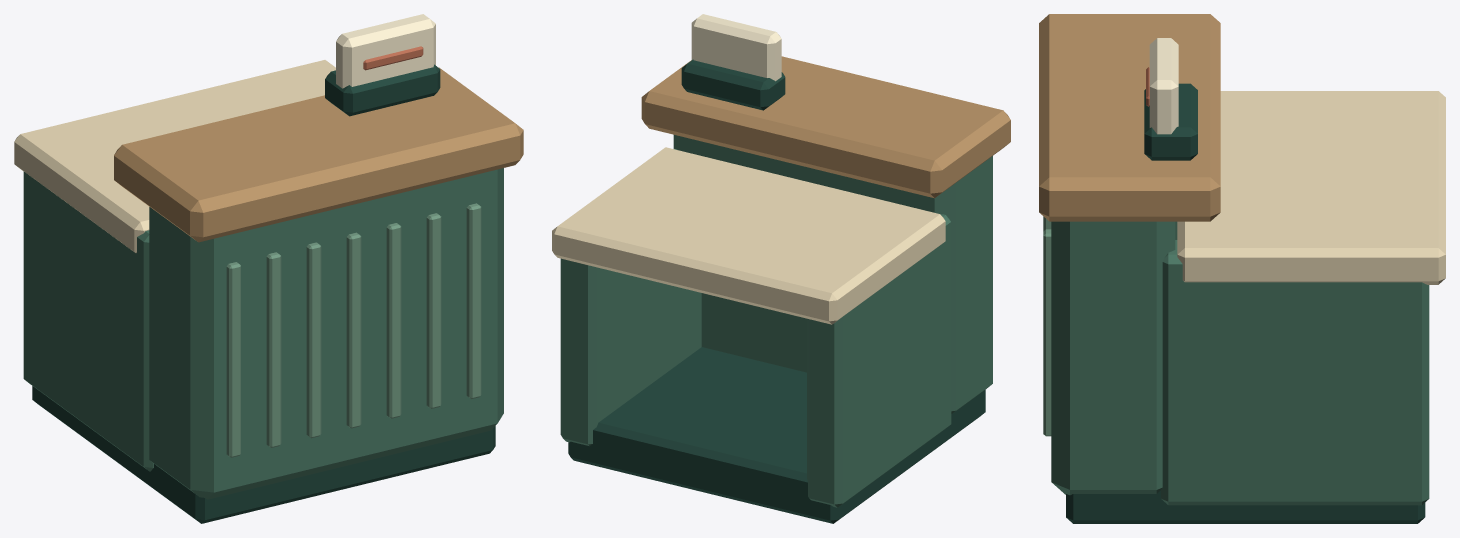
File: reception.glb
3 views of the same model, side by side, from view 1: azimuth 30°, elevation 25°; view 2: azimuth 150°, elevation 25°; view 3: azimuth 270°, elevation 25° (orthographic). The views are drawn at different scales.
Parts seen in each view (by area): view 1: green_Asset_reception, wood_Asset_reception, sage_Asset_reception, cream_Asset_reception, deep_Asset_reception, ivory_Asset_reception, earth_Asset_reception; view 2: green_Asset_reception, cream_Asset_reception, deep_Asset_reception, wood_Asset_reception, ivory_Asset_reception; view 3: green_Asset_reception, cream_Asset_reception, wood_Asset_reception, deep_Asset_reception, ivory_Asset_reception, sage_Asset_reception.
Part boxes in pixels (bbox=[...]): green_Asset_reception: bbox=[23, 168, 503, 499]; wood_Asset_reception: bbox=[114, 67, 523, 242]; sage_Asset_reception: bbox=[226, 203, 481, 457]; cream_Asset_reception: bbox=[14, 60, 335, 252]; deep_Asset_reception: bbox=[32, 64, 495, 523]; ivory_Asset_reception: bbox=[336, 14, 435, 88]; earth_Asset_reception: bbox=[363, 46, 423, 70]; green_Asset_reception: bbox=[560, 135, 992, 507]; cream_Asset_reception: bbox=[552, 147, 945, 324]; deep_Asset_reception: bbox=[568, 59, 985, 523]; wood_Asset_reception: bbox=[641, 56, 1010, 198]; ivory_Asset_reception: bbox=[691, 14, 781, 81]; green_Asset_reception: bbox=[1051, 221, 1429, 505]; cream_Asset_reception: bbox=[1177, 91, 1445, 284]; wood_Asset_reception: bbox=[1039, 14, 1220, 221]; deep_Asset_reception: bbox=[1066, 83, 1425, 523]; ivory_Asset_reception: bbox=[1149, 38, 1178, 134]; sage_Asset_reception: bbox=[1043, 216, 1051, 436].
Bounding box in the file's own units: 1 × 1.18 × 1.
